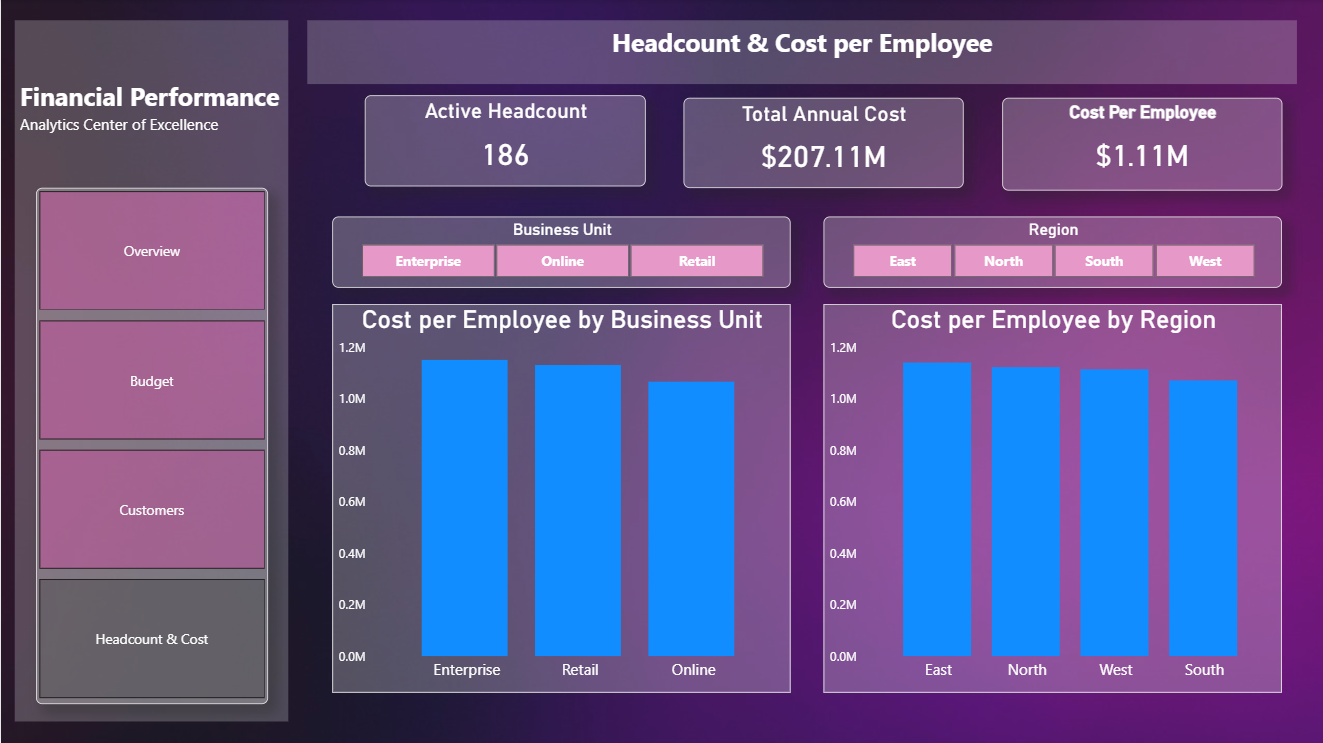

The dashboard page shown, as its layout file describes it:
{"tool":"powerbi","page":{"name":"Headcount & Cost","canvas":[1280,720],"ordinal":3},"visuals":[{"type":"textbox","box":[295.6,20.5,955.5,61.5],"z":0},{"type":"textbox","box":[13.3,20.5,264.2,676.8],"z":1000},{"type":"card","title":"Active Headcount","fields":{"Values":["Headcount.Active Headcount"]},"box":[351.1,92.9,271.4,88.1],"z":2000},{"type":"card","title":"Total Annual Cost","fields":{"Values":["Headcount.Total CTC"]},"box":[658.7,95.3,270.2,86.9],"z":3000},{"type":"card","title":"Cost Per Employee","fields":{"Values":["Headcount.Cost Per Employee"]},"box":[966.4,95.3,270.2,89.3],"z":4000},{"type":"pageNavigator","box":[33.8,182.2,224.4,498.3],"z":5000},{"type":"clusteredColumnChart","title":"Cost per Employee by Business Unit","fields":{"Category":["Headcount.business_unit"],"Y":["Headcount.Cost Per Employee"]},"box":[319.7,294.4,442.8,375.2],"z":6000},{"type":"clusteredColumnChart","title":"Cost per Employee by Region","fields":{"Y":["Headcount.Cost Per Employee"],"Category":["Headcount.region"]},"box":[793.8,294.4,442.8,375.2],"z":7000},{"type":"slicer","title":"Business Unit","fields":{"Values":["Headcount.business_unit"]},"box":[319.7,209.9,442.8,68.8],"z":7001},{"type":"slicer","title":"Region","fields":{"Values":["Headcount.region"]},"box":[793.8,209.9,442.8,68.8],"z":7002}]}

Visuals, with their boxes in screenshot pixels (x1, y1, x2, y2), scaled from the page's 1280x720 canvas onto the 1323x743 screenshot:
textbox: [left=306, top=21, right=1293, bottom=85]
textbox: [left=14, top=21, right=287, bottom=720]
"Active Headcount" card: [left=363, top=96, right=643, bottom=187]
"Total Annual Cost" card: [left=681, top=98, right=960, bottom=188]
"Cost Per Employee" card: [left=999, top=98, right=1278, bottom=190]
pageNavigator: [left=35, top=188, right=267, bottom=702]
"Cost per Employee by Business Unit" clusteredColumnChart: [left=330, top=304, right=788, bottom=691]
"Cost per Employee by Region" clusteredColumnChart: [left=820, top=304, right=1278, bottom=691]
"Business Unit" slicer: [left=330, top=217, right=788, bottom=288]
"Region" slicer: [left=820, top=217, right=1278, bottom=288]
